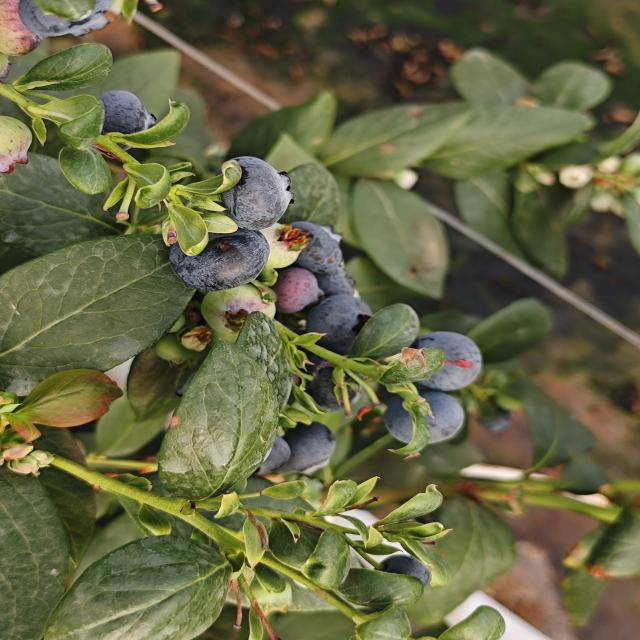ripe: (166, 227, 272, 294), (216, 154, 296, 232), (380, 388, 468, 448), (406, 329, 485, 394), (15, 0, 128, 42), (305, 291, 379, 355), (290, 360, 361, 421), (284, 220, 348, 274), (94, 88, 158, 139), (372, 550, 437, 593), (248, 430, 295, 480), (298, 268, 361, 300), (275, 268, 320, 310), (300, 422, 337, 462)
